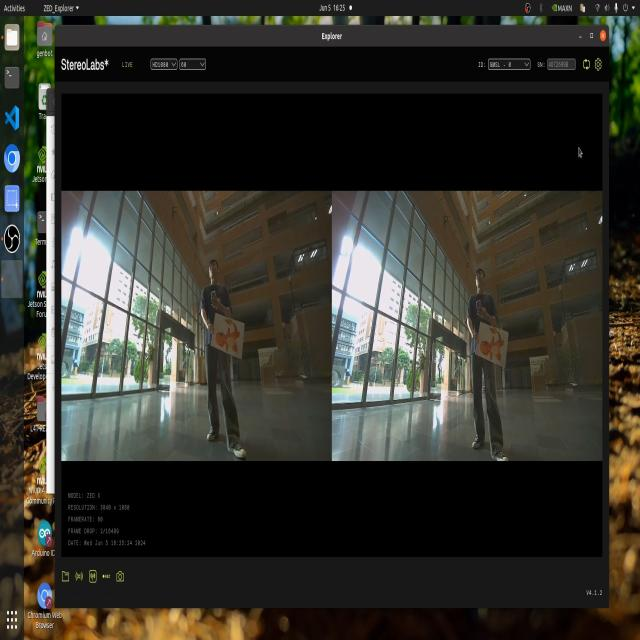red: (477, 315, 512, 356), (213, 319, 240, 353)
